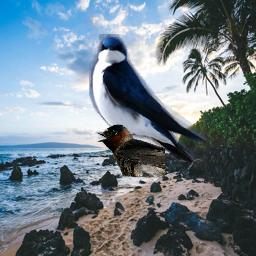Swallow: (89, 34, 206, 162), (96, 124, 165, 178)
